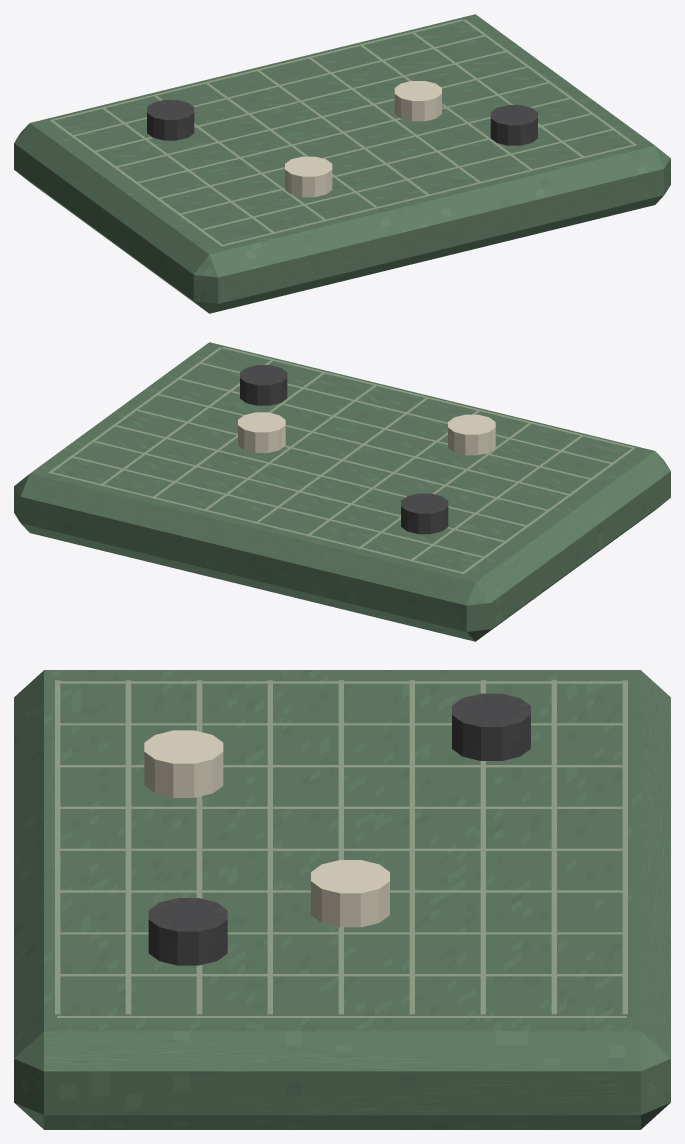
Rendered from othello.glb.
3 views of the same model, one above another, from view 1: azimuth 30°, elevation 25°; view 2: azimuth 150°, elevation 25°; view 3: azimuth 270°, elevation 25° (orthographic). The views are drawn at different scales.
Visible parts, largest first — view 1: block_divided game board, block_grid stripe (×16), block_reversible game disc (×4); view 2: block_divided game board, block_grid stripe (×17), block_reversible game disc (×4); view 3: block_divided game board, block_grid stripe (×18), block_reversible game disc (×4).
Boxes of the visible parts, box(x1,y1,x2,y2) form: block_divided game board: box(14, 14, 670, 313); block_grid stripe (×16): box(50, 19, 636, 246); block_reversible game disc (×4): box(147, 81, 537, 197); block_divided game board: box(14, 342, 670, 641); block_grid stripe (×17): box(48, 347, 635, 574); block_reversible game disc (×4): box(238, 365, 495, 534); block_divided game board: box(14, 670, 670, 1129); block_grid stripe (×18): box(55, 680, 627, 1017); block_reversible game disc (×4): box(144, 693, 530, 965).
Size of the model in its own units: 0.2074 by 0.034 by 0.1489.
Materials: 1 (1 with a texture image).
